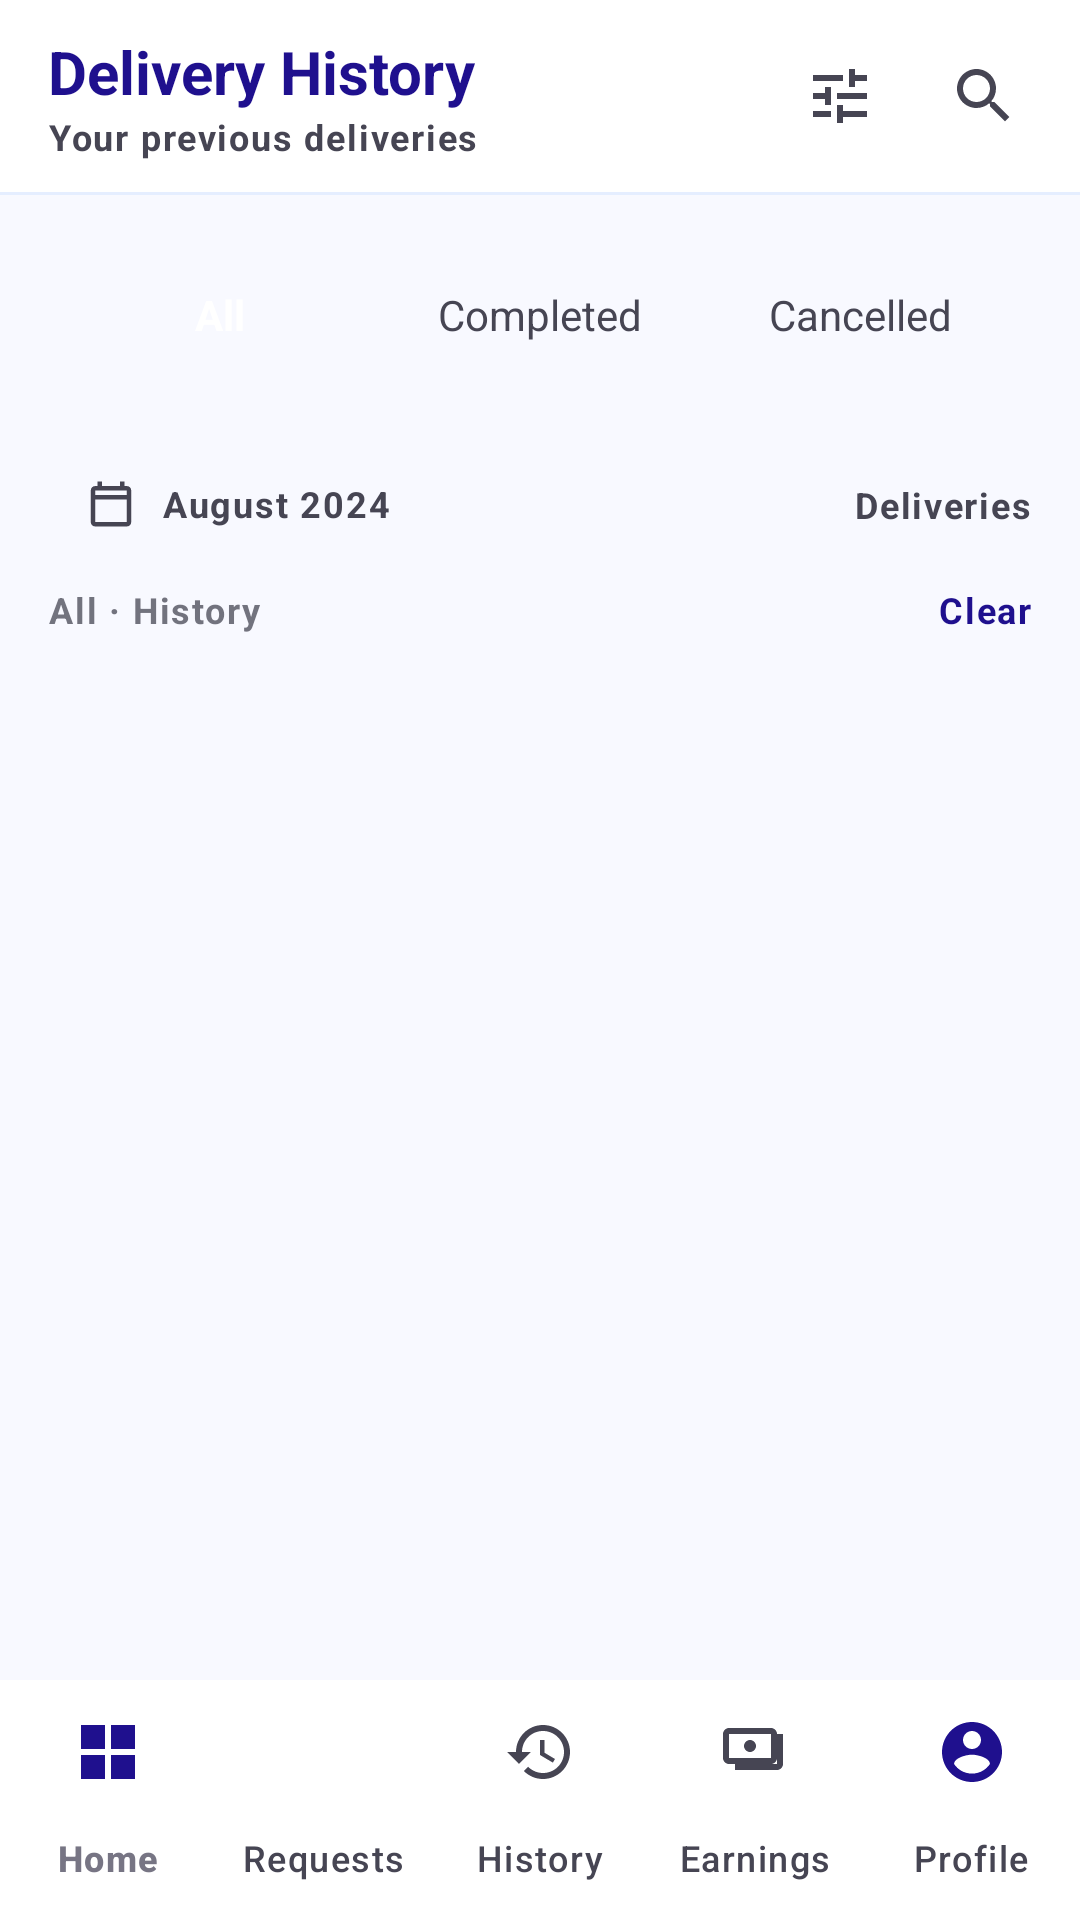

Icons on this 1080w x 1920h Android screen, each with the point to tap as [x,y]:
Calendar: [111,504]
Filter: [840,96]
Search: [983,95]
